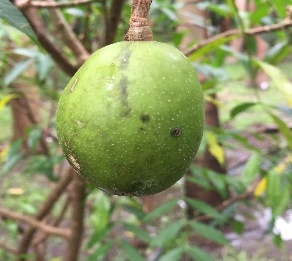Coc: (55, 40, 207, 198)
